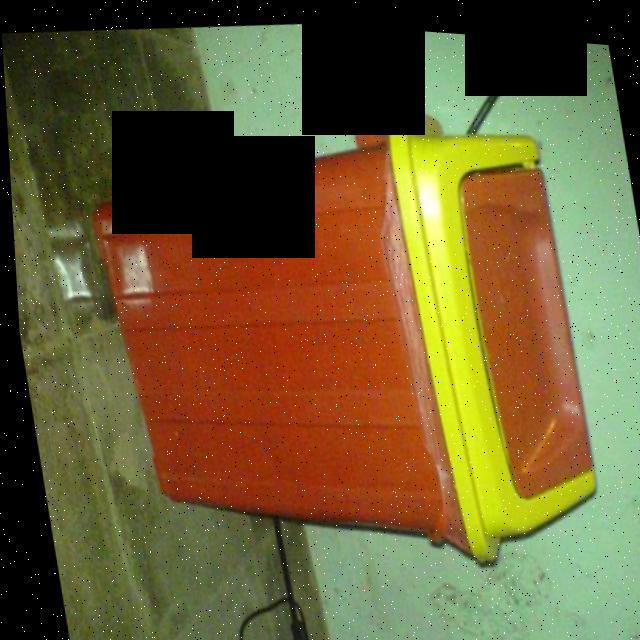bin: (57, 56, 625, 580)
